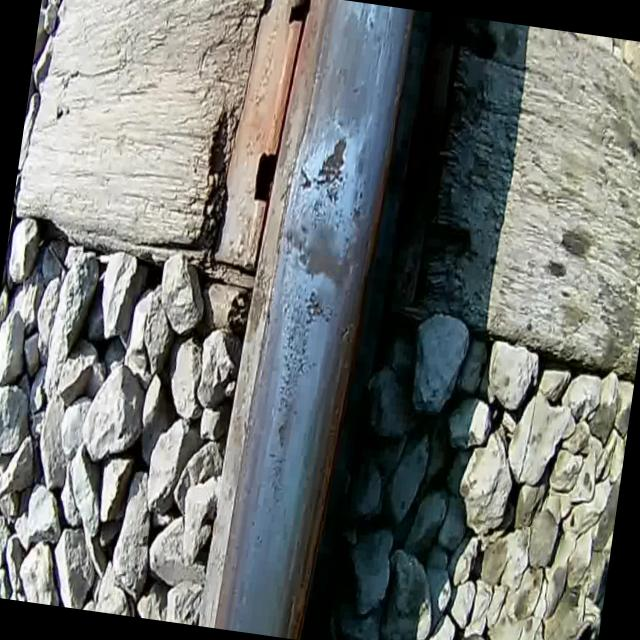Spallings: (292, 122, 358, 212)
Squats: (276, 209, 365, 297)
